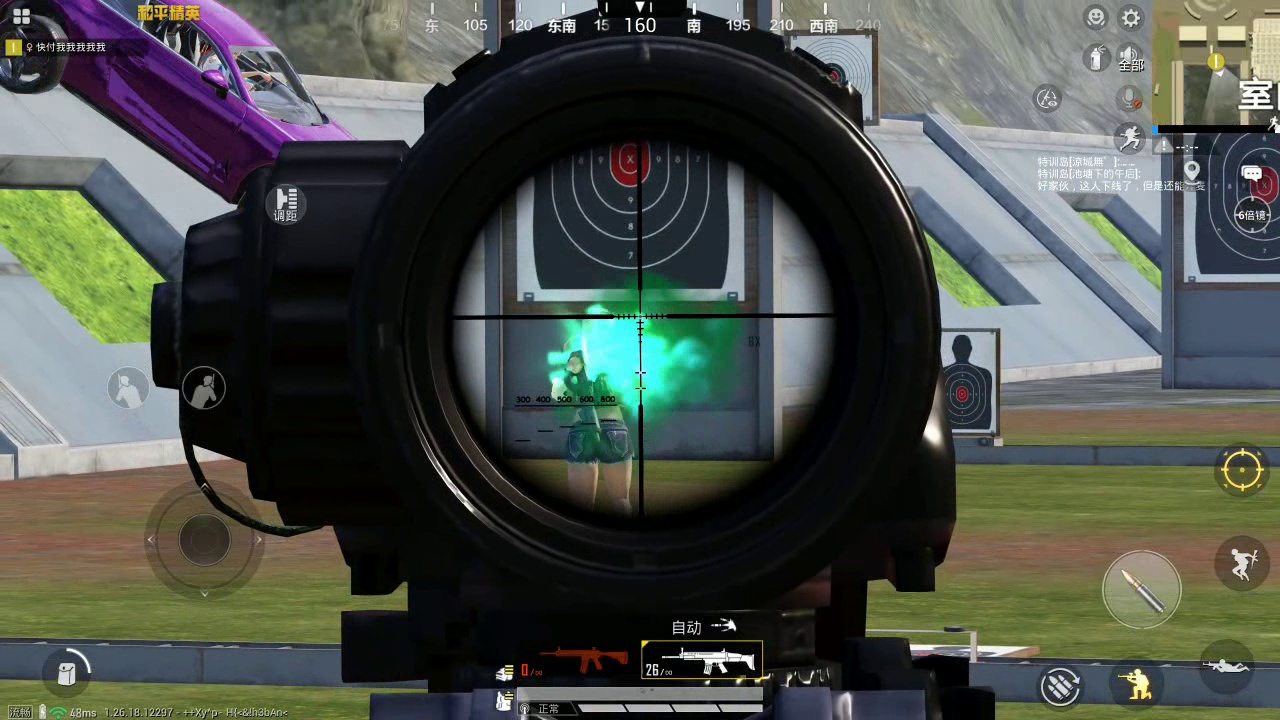enemy: (549, 311, 634, 509)
